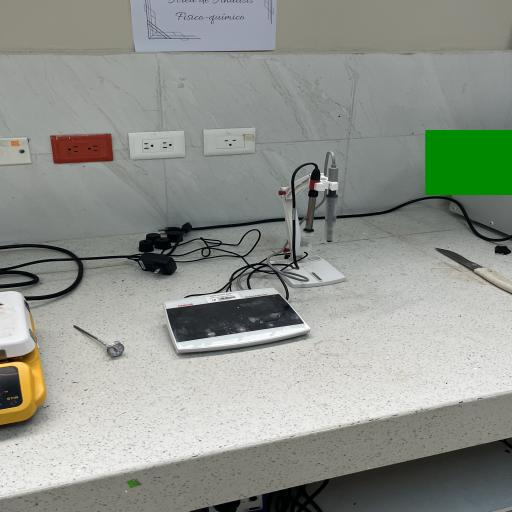Phmetro_Ohaus: (148, 281, 326, 359)
